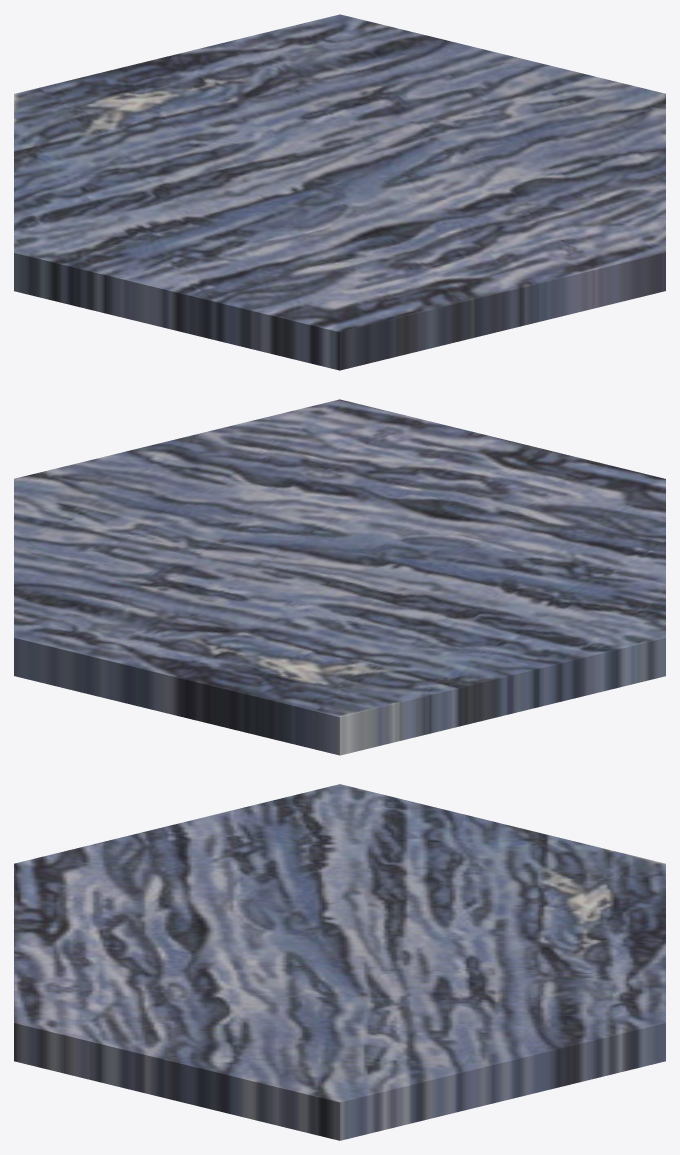
File: 2for1_water.glb
The picture shows the model from 3 angles, top to bottom: view 1: azimuth 30°, elevation 25°; view 2: azimuth 150°, elevation 25°; view 3: azimuth 270°, elevation 25°; orthographic projection.
Visible parts, largest first — view 1: 2for1_water; view 2: 2for1_water; view 3: 2for1_water.
Part boxes in pixels (<box>): 2for1_water: <box>14,14,665,370</box>; 2for1_water: <box>14,399,665,755</box>; 2for1_water: <box>14,784,665,1140</box>.
Bounding box in the file's own units: 0.089 × 0.005 × 0.077.
1 material, 1 textured.
